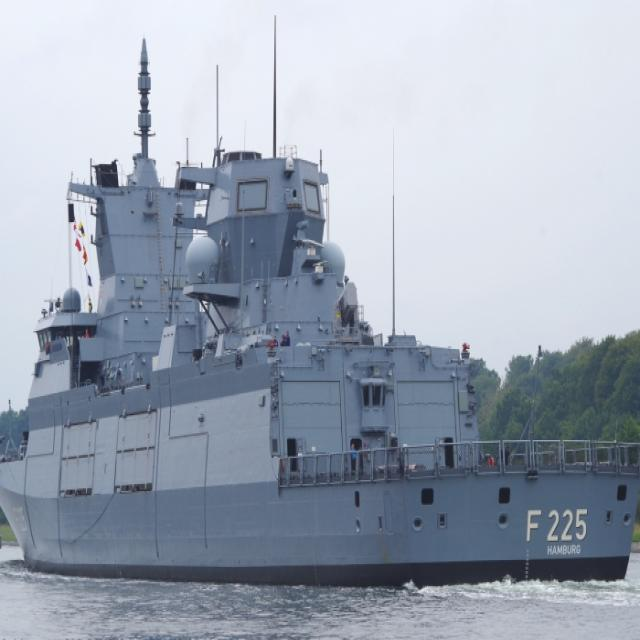Fragata: (1, 5, 640, 589)
